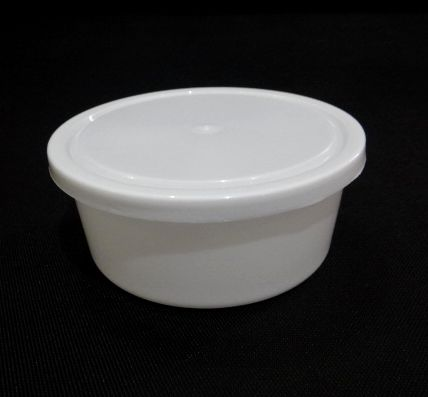PlasticBox: (44, 83, 372, 313)
